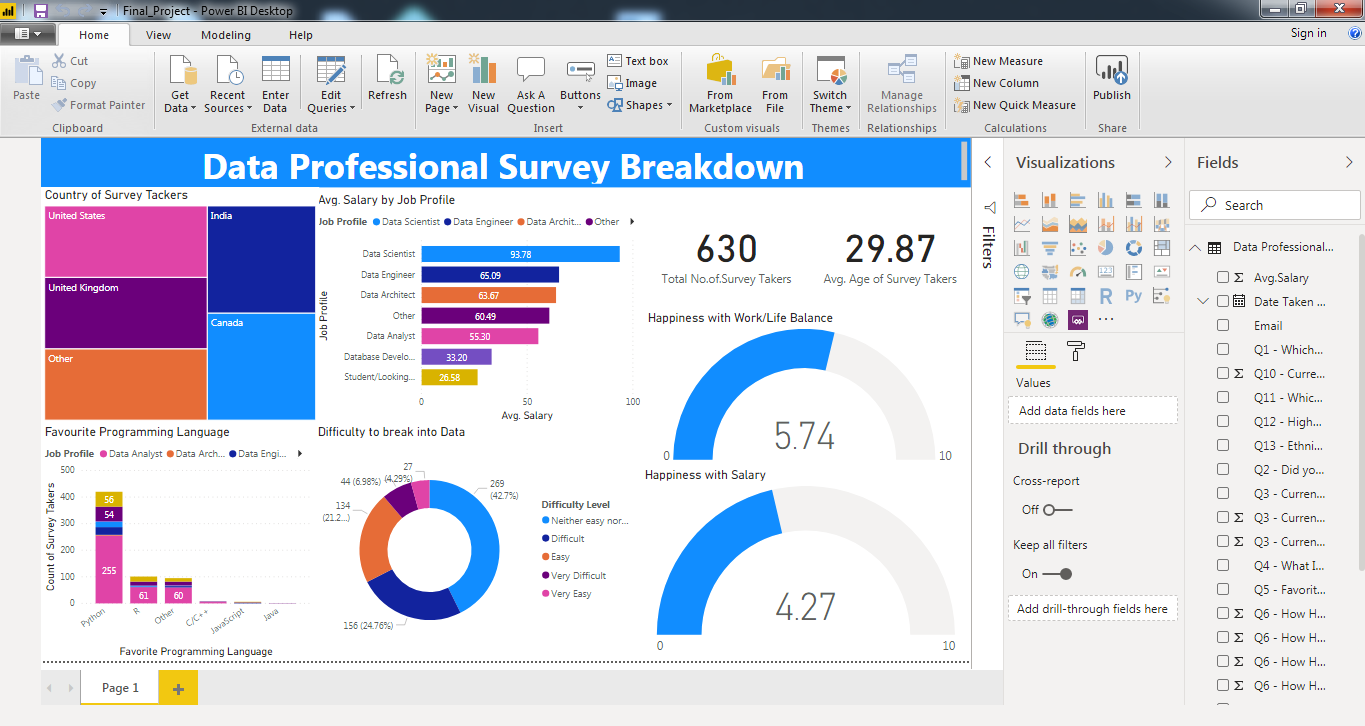

The dashboard page shown, as its layout file describes it:
{"tool":"powerbi","page":{"name":"Page 1","canvas":[1280,720],"ordinal":0},"visuals":[{"type":"card","fields":{"Values":["Count(Data Professional Survey.Unique ID)"]},"box":[830.1,74.2,227.2,162.3],"z":0},{"type":"textbox","box":[0,0,1280,68],"z":1000},{"type":"card","fields":{"Values":["Avg(Data Professional Survey.Q10 - Current Age)"]},"box":[1057.4,74.2,222.6,162.3],"z":2000},{"type":"barChart","title":"Avg. Salary by Job Profile","fields":{"Category":["Data Professional Survey.Q1 - Which Title Best Fits your Current Role?.1"],"Y":["Avg(Data Professional Survey.Avg.Salary)"],"Series":["Data Professional Survey.Q1 - Which Title Best Fits your Current Role?.1"]},"box":[375.7,74.2,454.5,320],"z":3000},{"type":"columnChart","title":"Favourite Programming Language","fields":{"Category":["Data Professional Survey.Q5 - Favorite Programming Language.1"],"Series":["Data Professional Survey.Q1 - Which Title Best Fits your Current Role?.1"],"Y":["CountNonNull(Data Professional Survey.Unique ID)"]},"box":[0,394.2,375.7,326.2],"z":4000},{"type":"treemap","title":"Country of Survey Tackers","fields":{"Values":["Count(Data Professional Survey.Q11 - Which Country do you live in?.1)"],"Group":["Data Professional Survey.Q11 - Which Country do you live in?.1"]},"box":[0,68,383.4,326.2],"z":5000},{"type":"gauge","title":"Happiness with Work/Life Balance","fields":{"Y":["Avg(Data Professional Survey.Q6 - How Happy are you in your Current Position with the following? (Work/Life Balance))"],"MinValue":["Min(Data Professional Survey.Q6 - How Happy are you in your Current Position with the following? (Work/Life Balance))"],"MaxValue":["Max(Data Professional Survey.Q6 - How Happy are you in your Current Position with the following? (Work/Life Balance))1"]},"box":[830.1,236.5,449.9,216.4],"z":6000},{"type":"gauge","title":"Happiness with Salary","fields":{"Y":["Avg(Data Professional Survey.Q6 - How Happy are you in your Current Position with the following? (Salary))"],"MinValue":["Min(Data Professional Survey.Q6 - How Happy are you in your Current Position with the following? (Salary))"],"MaxValue":["Max(Data Professional Survey.Q6 - How Happy are you in your Current Position with the following? (Salary))"]},"box":[825.5,452.9,454.5,267.4],"z":7000},{"type":"donutChart","title":"Difficulty to break into Data","fields":{"Category":["Data Professional Survey.Q7 - How difficult was it for you to break into Data?"],"Y":["CountNonNull(Data Professional Survey.Q7 - How difficult was it for you to break into Data?)"]},"box":[376,394,450,326],"z":8000}]}

Visuals, with their boxes on the page's 1280x720 design canvas (x1, y1, x2, y2). These are canvas units, not pixel positions in the 1365x726 screenshot, which may show the page scaled, cropped or inside an application window:
card - Count(Data Professional Survey.Unique ID): x1=830, y1=74, x2=1057, y2=236
textbox: x1=0, y1=0, x2=1280, y2=68
card - Avg(Data Professional Survey.Q10 - Current Age): x1=1057, y1=74, x2=1280, y2=236
"Avg. Salary by Job Profile" barChart: x1=376, y1=74, x2=830, y2=394
"Favourite Programming Language" columnChart: x1=0, y1=394, x2=376, y2=720
"Country of Survey Tackers" treemap: x1=0, y1=68, x2=383, y2=394
"Happiness with Work/Life Balance" gauge: x1=830, y1=236, x2=1280, y2=453
"Happiness with Salary" gauge: x1=826, y1=453, x2=1280, y2=720
"Difficulty to break into Data" donutChart: x1=376, y1=394, x2=826, y2=720
